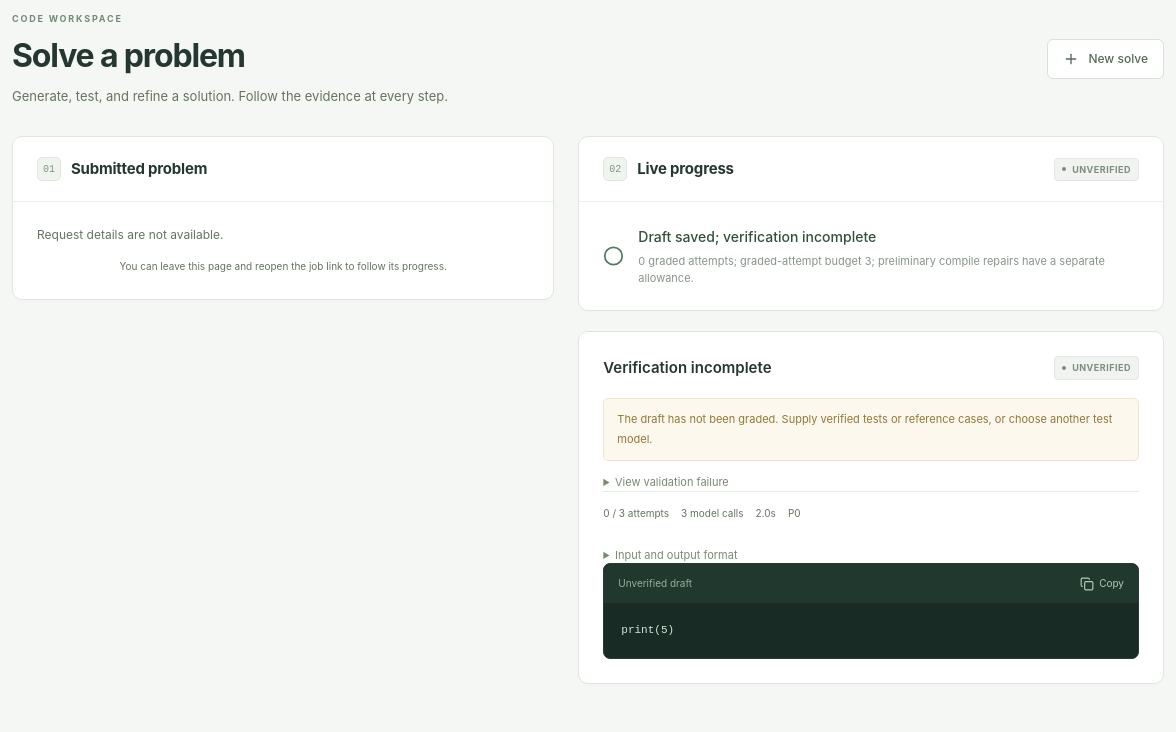
Test case: an unverified result restores the draft and explains the failure without a verdict or history link
This screenshot has width=1176, height=732.
Expected: the text "Draft saved; verification incomplete" is shown, [638, 228, 876, 245]
Expected: the element named "Unverified draft" reads "print(5)", [621, 624, 674, 636]
Click the heading "Input and output format".
click(676, 555)  # box [615, 548, 738, 562]
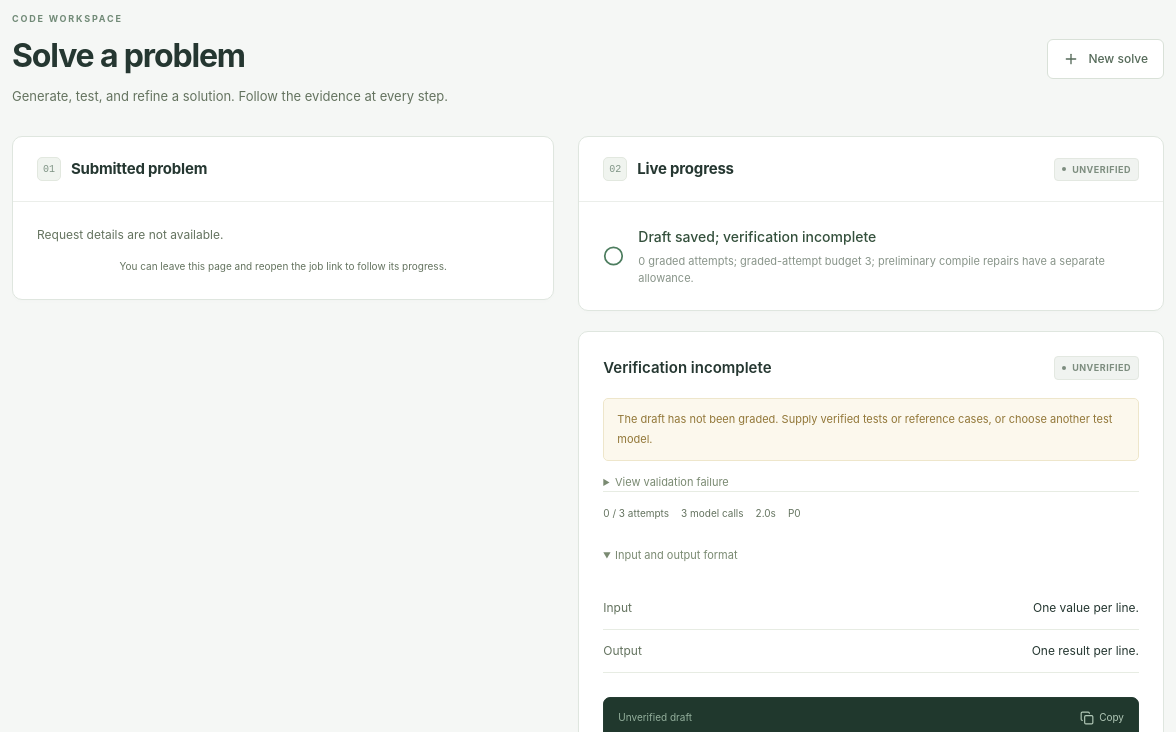
Expected: the text "One value per line." is shown, [1033, 599, 1139, 617]
